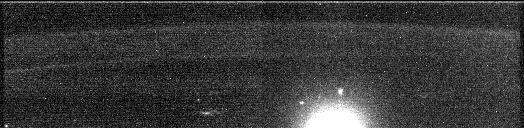positive: (331, 83, 349, 101)
